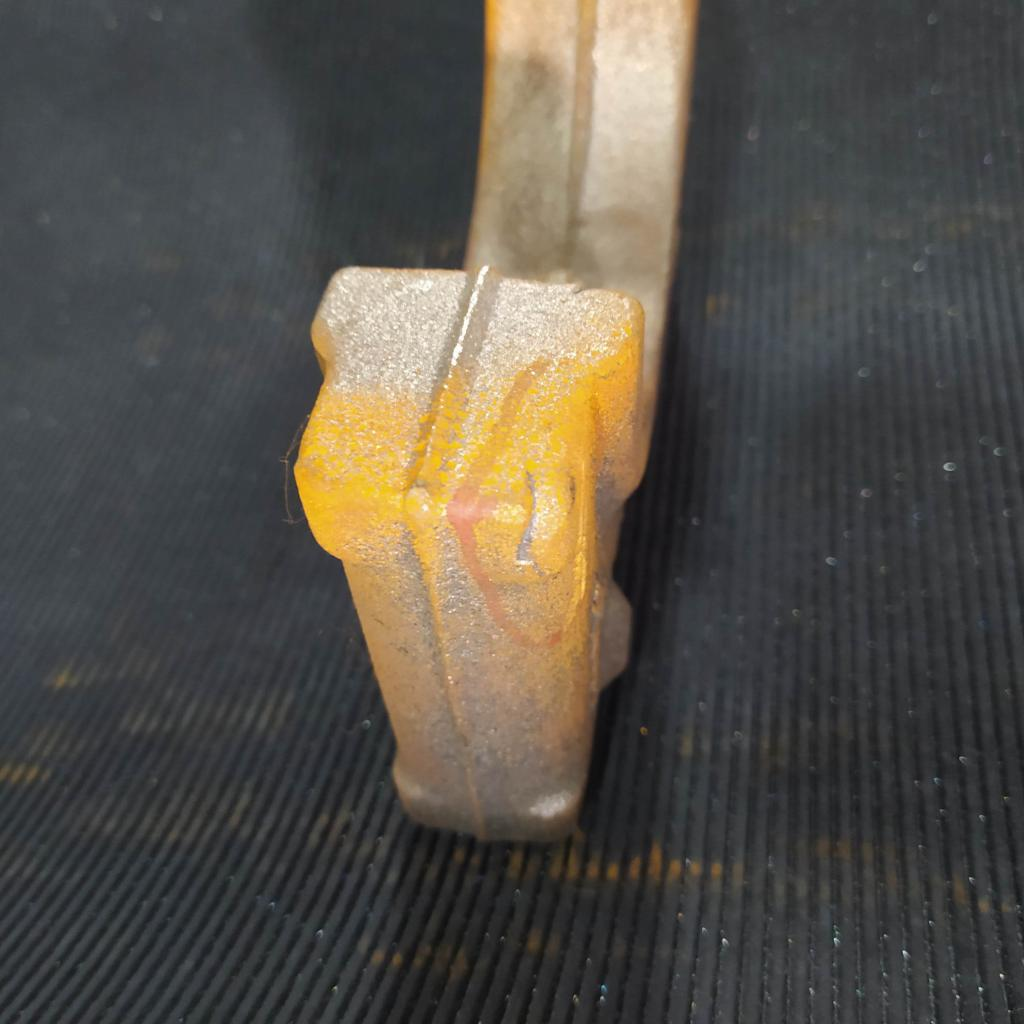rechupe: (516, 465, 549, 565)
